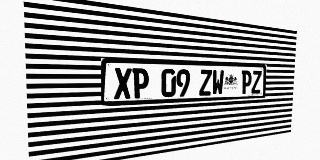0: (161, 69, 176, 97)
9: (176, 69, 190, 97)
P: (132, 68, 149, 99), (241, 70, 252, 94)
W: (212, 70, 224, 95)
X: (114, 68, 132, 99)
Z: (199, 69, 212, 96), (251, 71, 262, 94)
